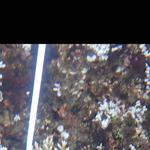dead: (4, 45, 147, 147)
